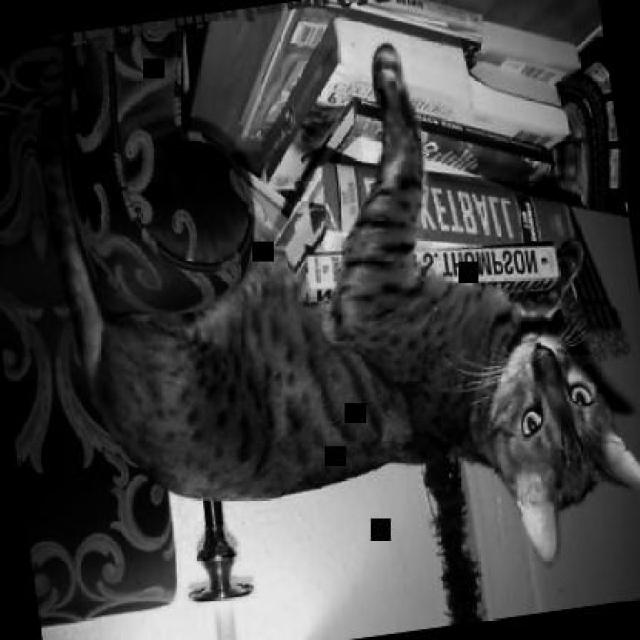cat: (29, 14, 638, 629)
